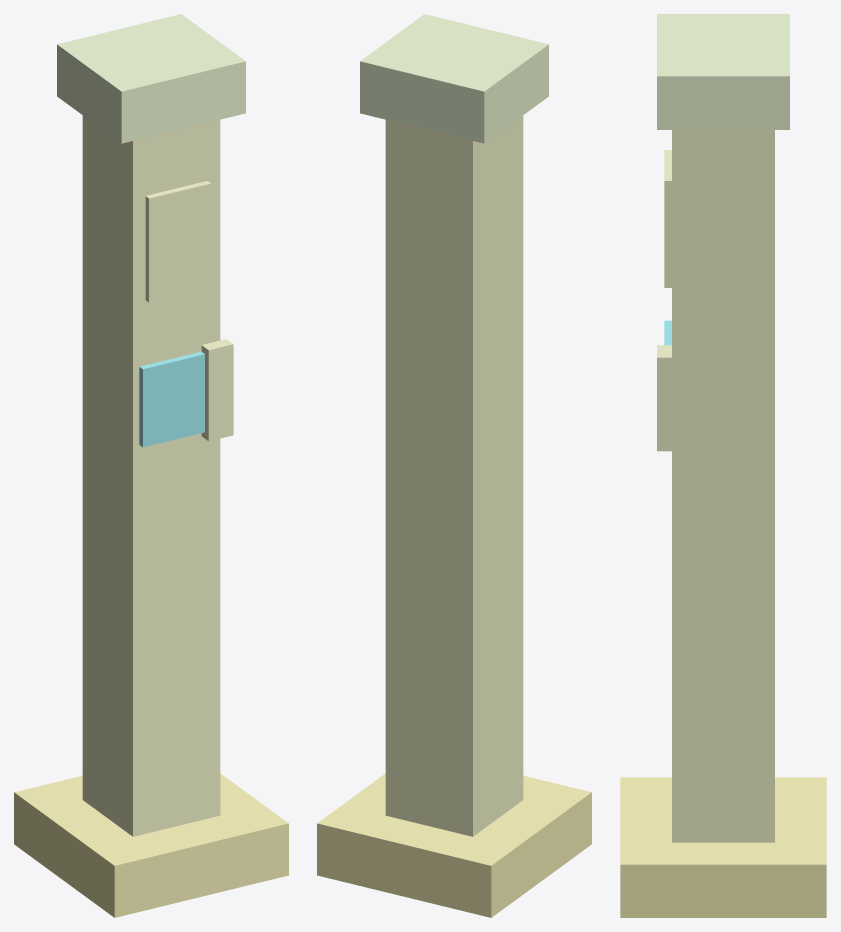
The model's file is furniture_bus_stop_validator_pedestal.glb.
3 renders of one model, left to right at view 1: azimuth 30°, elevation 25°; view 2: azimuth 150°, elevation 25°; view 3: azimuth 270°, elevation 25°, orthographic. The views are drawn at different scales.
Parts seen in each view (by area): view 1: pedestal, base, cap, screen, tap_target, reader_strip; view 2: pedestal, base, cap; view 3: pedestal, base, cap, reader_strip, screen.
Part boxes in pixels (box(x1,y1,x2,y2)): pedestal: box(82, 115, 220, 836); base: box(14, 773, 288, 917); cap: box(57, 14, 245, 143); screen: box(145, 181, 211, 302); tap_target: box(139, 351, 204, 447); reader_strip: box(201, 339, 233, 441); pedestal: box(385, 115, 523, 836); base: box(317, 773, 591, 917); cap: box(360, 14, 548, 143); pedestal: box(672, 130, 774, 842); base: box(620, 777, 826, 917); cap: box(657, 14, 789, 129); reader_strip: box(657, 345, 671, 451); screen: box(664, 150, 671, 287).
Bounding box in the file's own units: 0.28 × 1.24 × 0.28.
